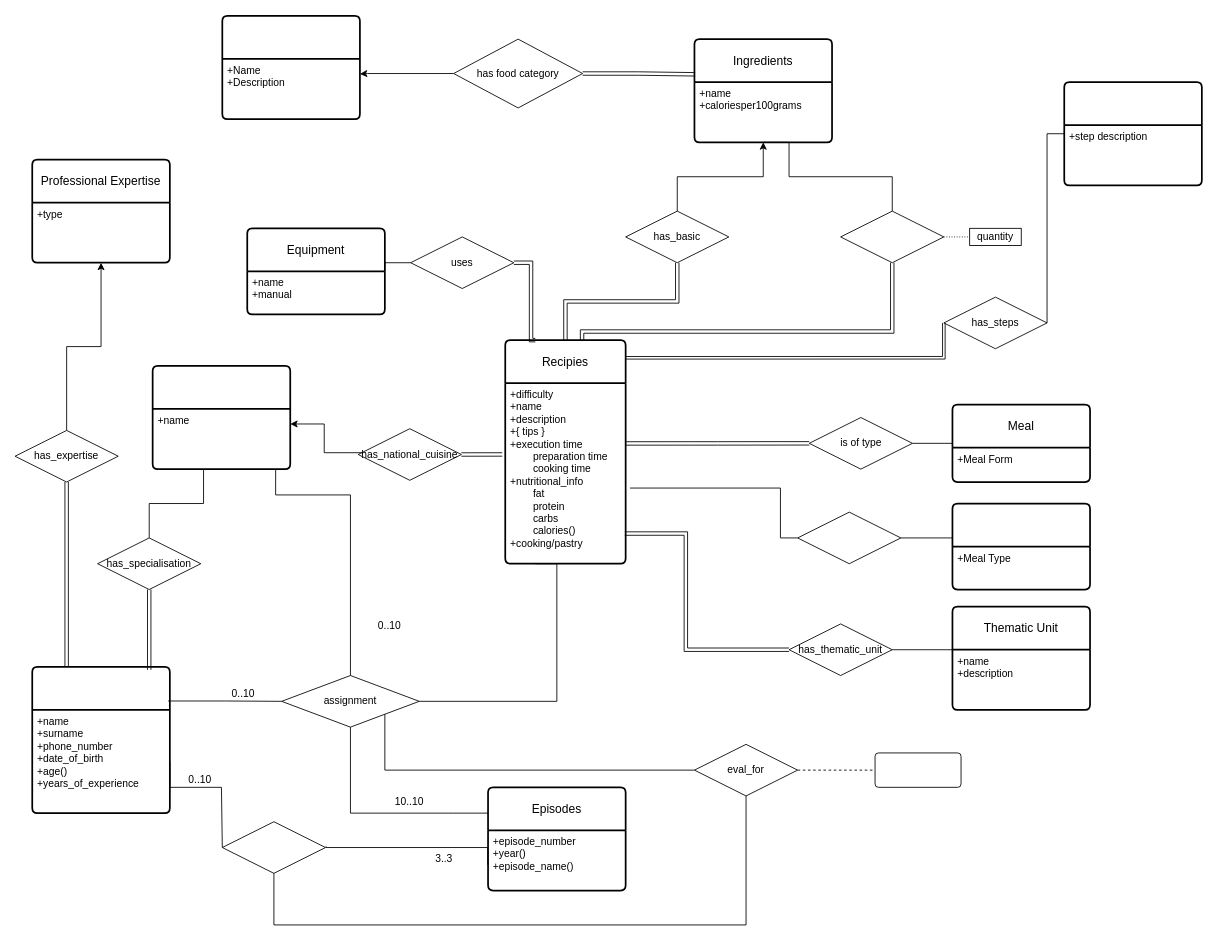
Image size: 1218x941. Some labels were removed from this diagram. Here are the shapes that lost their labels. From the top down, the box of each, then its label:
(221, 15, 360, 120): Food Category
(1063, 81, 1202, 186): Steps
(840, 210, 944, 263): has_ingedients
(151, 365, 291, 470): National Cuisine
(797, 511, 901, 564): has_etiquette
(951, 502, 1090, 590): Etiquette
(31, 666, 170, 814): Cook
(874, 752, 961, 787): Evaluation
(221, 821, 326, 873): judges
